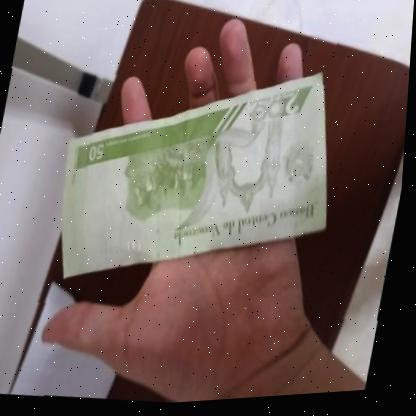fifty-back-vef: (44, 43, 360, 312)
